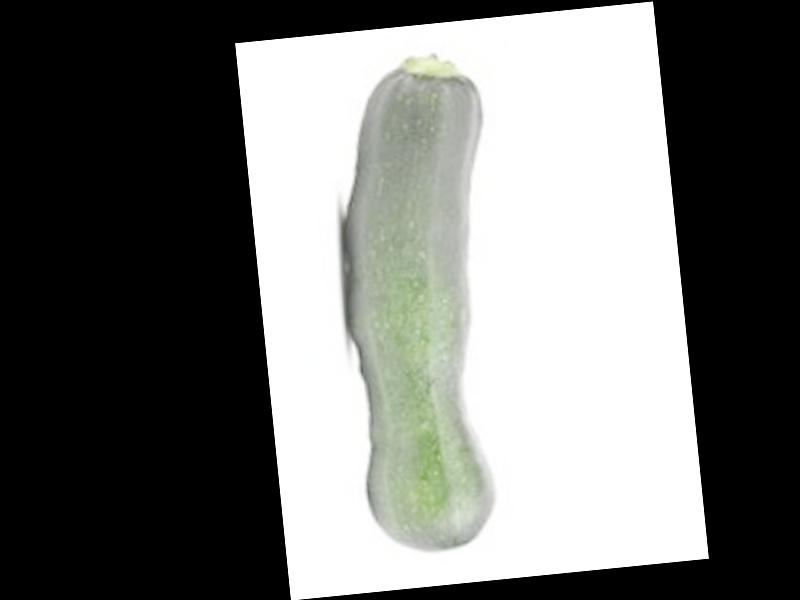Cucumber: (322, 48, 526, 557)
